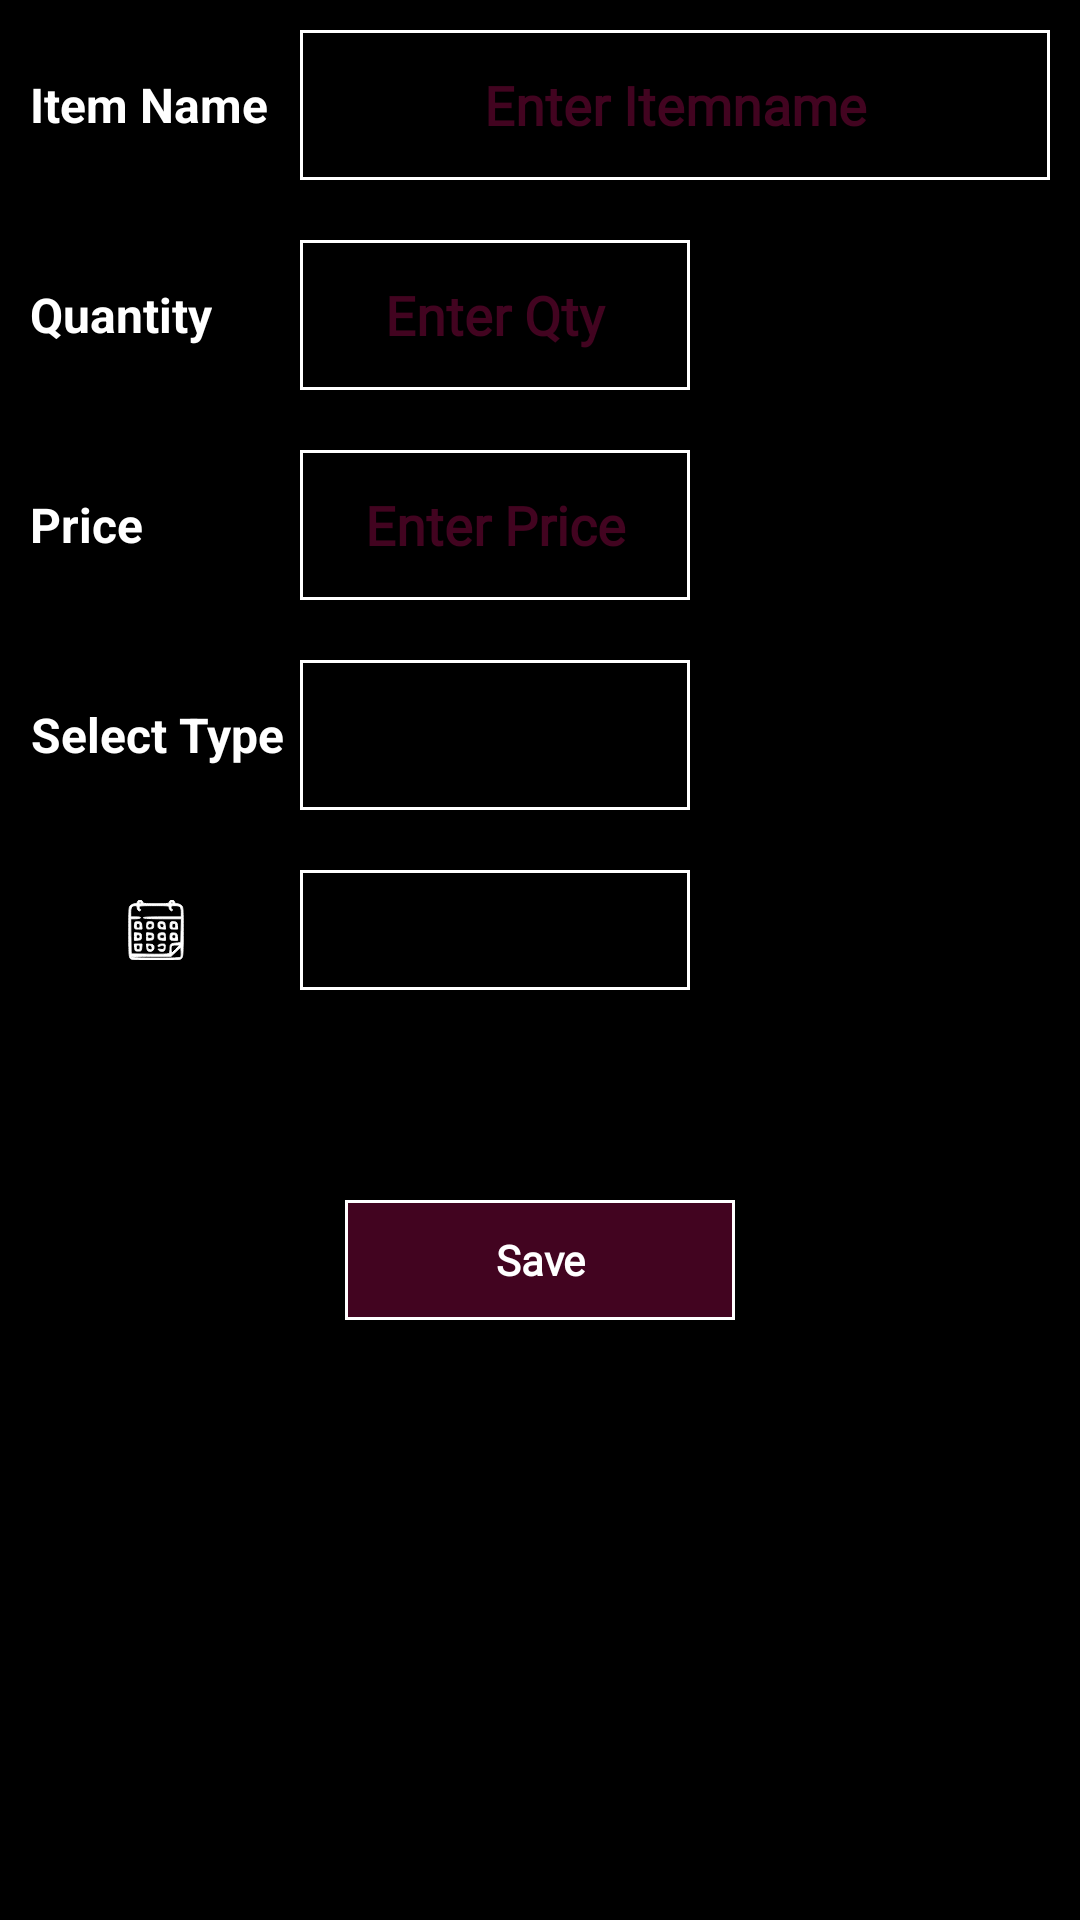

Where to tap for icons on this 1080 x 1920 app screen, as [x,y]:
calendar: [156,930]
